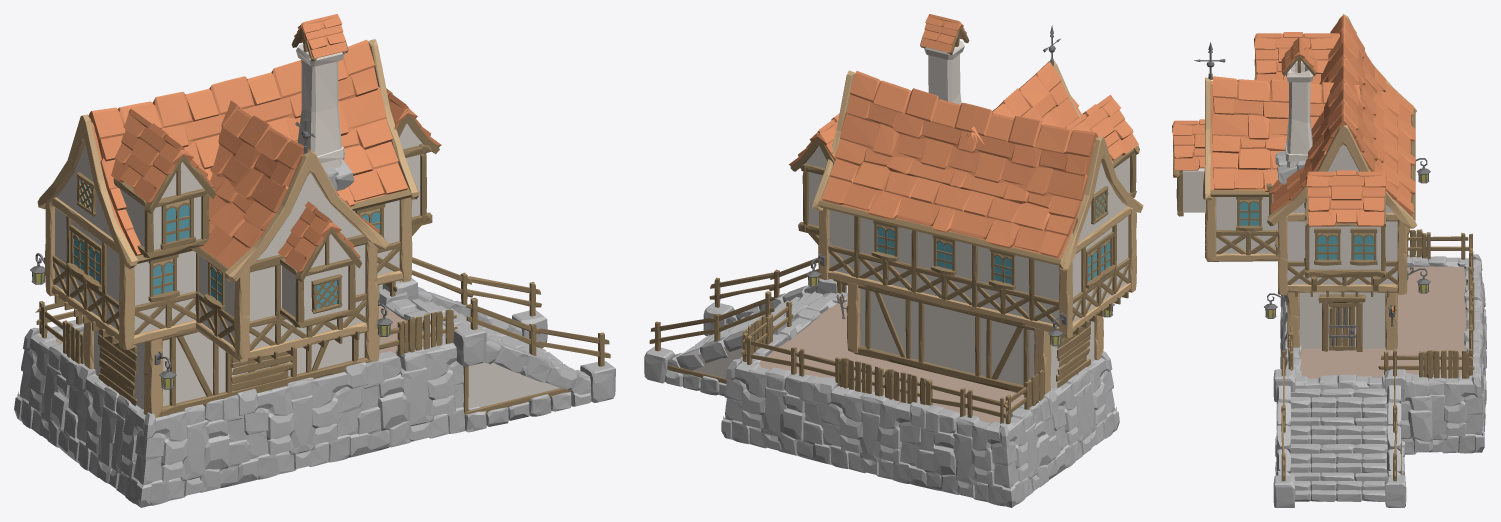
Rendered from SM_inn_tavern.fbx.
3 renders of one model, left to right at view 1: azimuth 30°, elevation 25°; view 2: azimuth 150°, elevation 25°; view 3: azimuth 270°, elevation 25°, orthographic. The views are drawn at different scales.
Visible parts, largest first — view 1: Building, Fence1, Fence, Fence2, Fence16; view 2: Building, Fence14, Fence2, Fence13, Fence1, Fence15, Fence17, Fence16; view 3: Building, Fence17, Fence16, Fence1, Fence2.
Boxes of the visible parts, x1=… form: Building: x1=14, y1=14, x2=615, y2=507; Fence1: x1=465, y1=297, x2=610, y2=366; Fence: x1=379, y1=309, x2=457, y2=354; Fence2: x1=411, y1=257, x2=541, y2=316; Fence16: x1=39, y1=305, x2=84, y2=363; Building: x1=644, y1=14, x2=1143, y2=507; Fence14: x1=839, y1=357, x2=932, y2=404; Fence2: x1=649, y1=291, x2=775, y2=351; Fence13: x1=743, y1=335, x2=840, y2=386; Fence1: x1=709, y1=257, x2=818, y2=307; Fence15: x1=927, y1=379, x2=1008, y2=423; Fence17: x1=741, y1=301, x2=793, y2=361; Fence16: x1=1004, y1=370, x2=1044, y2=423; Building: x1=1172, y1=14, x2=1486, y2=507; Fence17: x1=1378, y1=350, x2=1474, y2=378; Fence16: x1=1407, y1=229, x2=1468, y2=259; Fence1: x1=1281, y1=350, x2=1285, y2=481; Fence2: x1=1393, y1=350, x2=1397, y2=481.
Size of the model in its own units: 1793 by 1522 by 1222.
